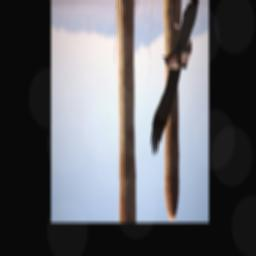Crow: (149, 0, 201, 158)
